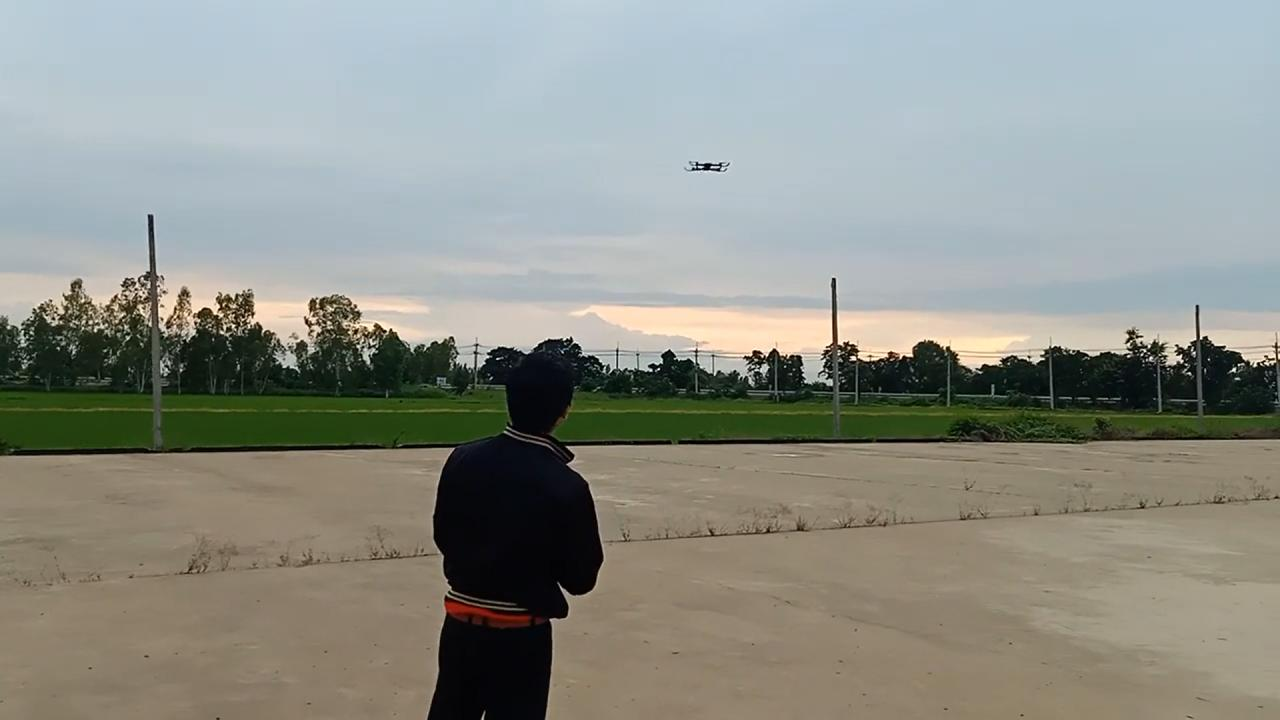Drone: (677, 154, 737, 182)
